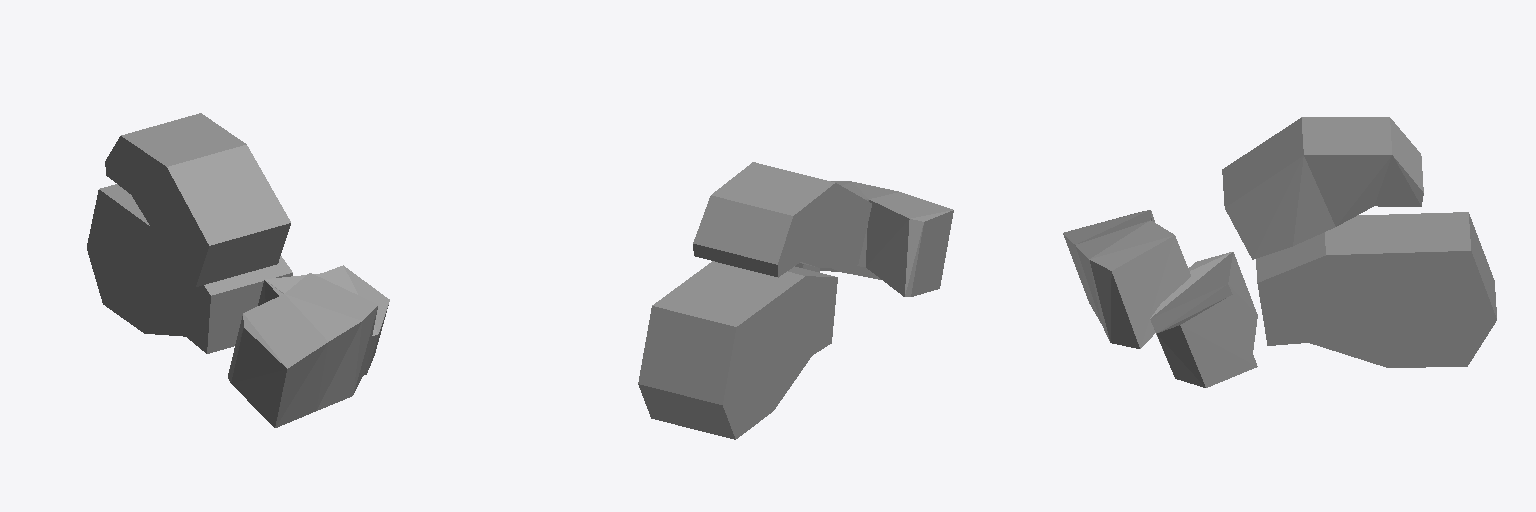
The model's file is cheville_left.obj.
3 renders of one model, left to right at view 1: azimuth 30°, elevation 25°; view 2: azimuth 150°, elevation 25°; view 3: azimuth 270°, elevation 25°, orthographic.
Visible parts, largest first — view 1: L_FOOT01_L_FOOT01_WHITE_BONE; view 2: L_FOOT01_L_FOOT01_WHITE_BONE; view 3: L_FOOT01_L_FOOT01_WHITE_BONE.
Part boxes in pixels (x1,y1,x2,y2): L_FOOT01_L_FOOT01_WHITE_BONE: (87, 113, 389, 427); L_FOOT01_L_FOOT01_WHITE_BONE: (638, 162, 953, 439); L_FOOT01_L_FOOT01_WHITE_BONE: (1063, 117, 1496, 387).
Bounding box in the file's own units: 3.05 × 3.53 × 6.81.